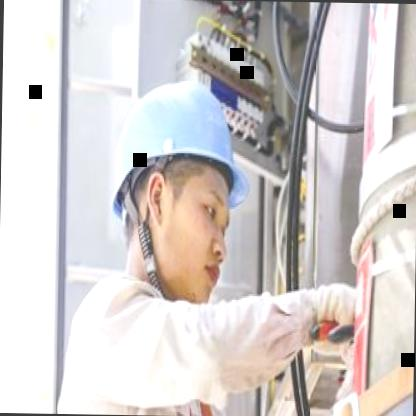helmet: (98, 55, 256, 317)
